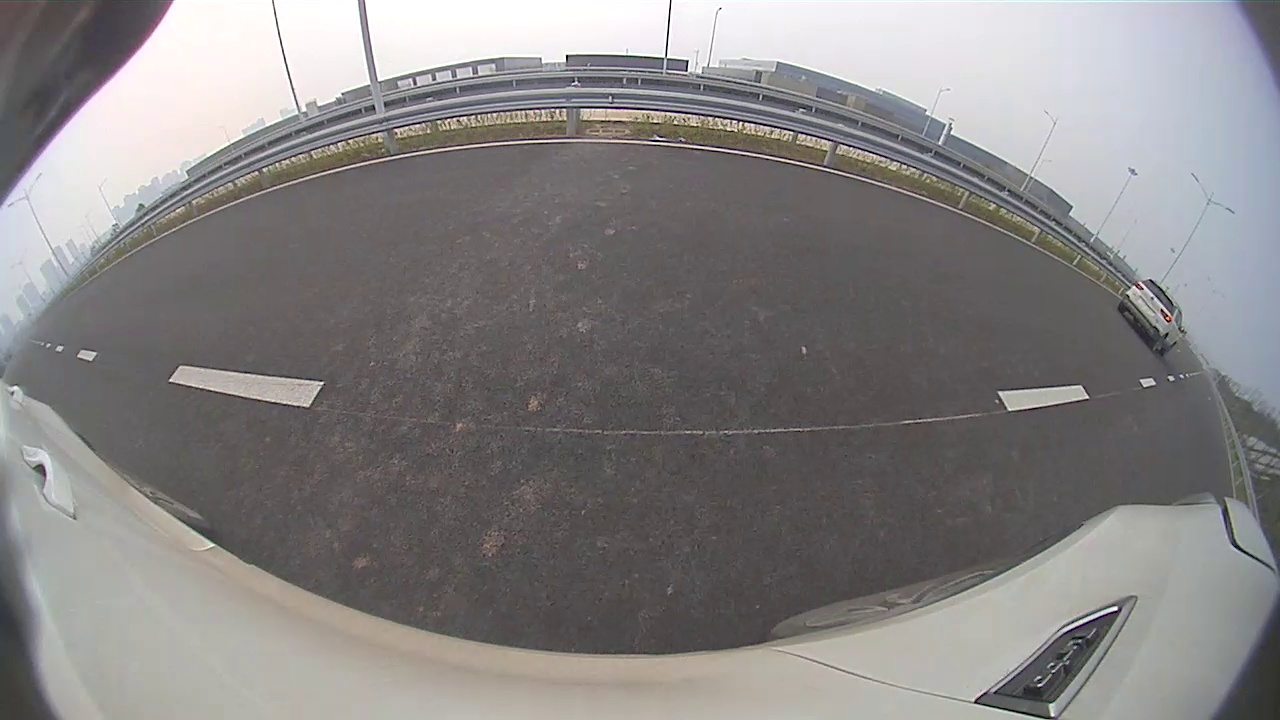car: (638, 112, 791, 224)
front: (639, 177, 648, 207)
rear: (657, 178, 671, 223)
